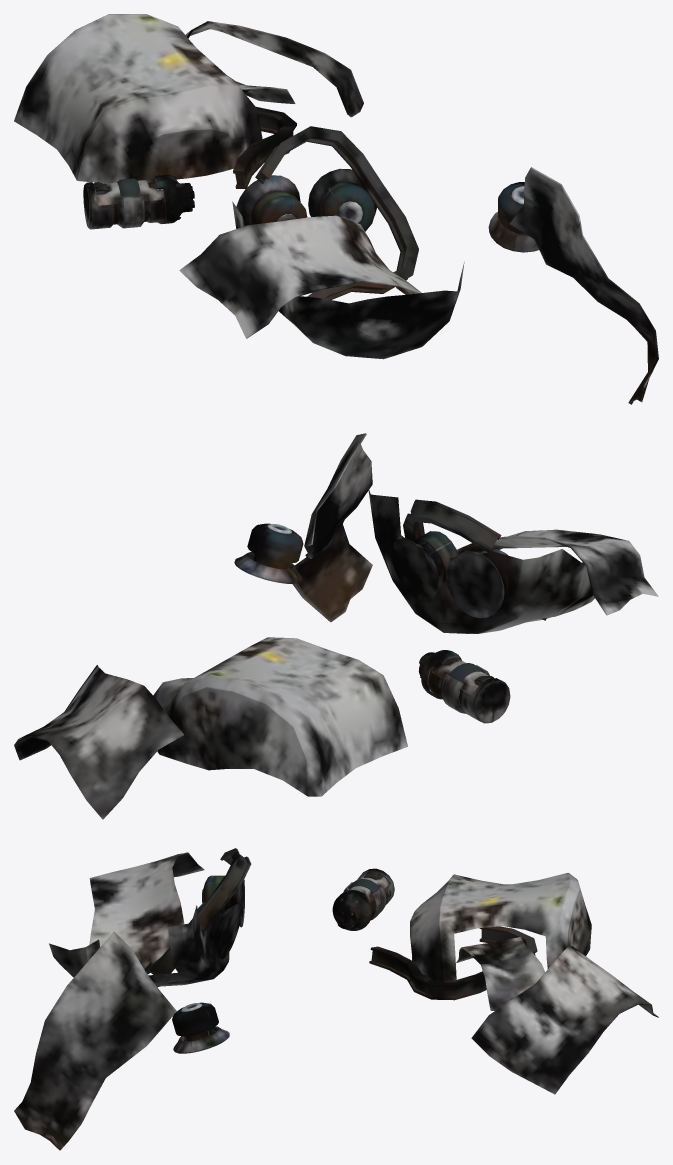
Rendered from SM_SupplyDebris_28a959.glb.
3 renders of one model, top to bottom at view 1: azimuth 30°, elevation 25°; view 2: azimuth 150°, elevation 25°; view 3: azimuth 270°, elevation 25°, orthographic. The views are drawn at different scales.
Bounding box in the file's own units: 4.52 × 2.75 × 7.67.
Materials: 1 (1 with a texture image).
